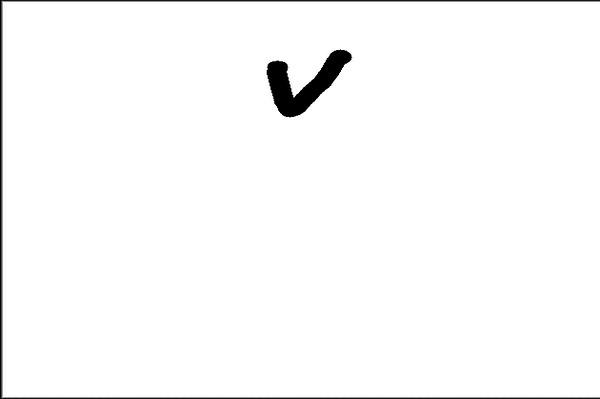V: (261, 32, 360, 120)
